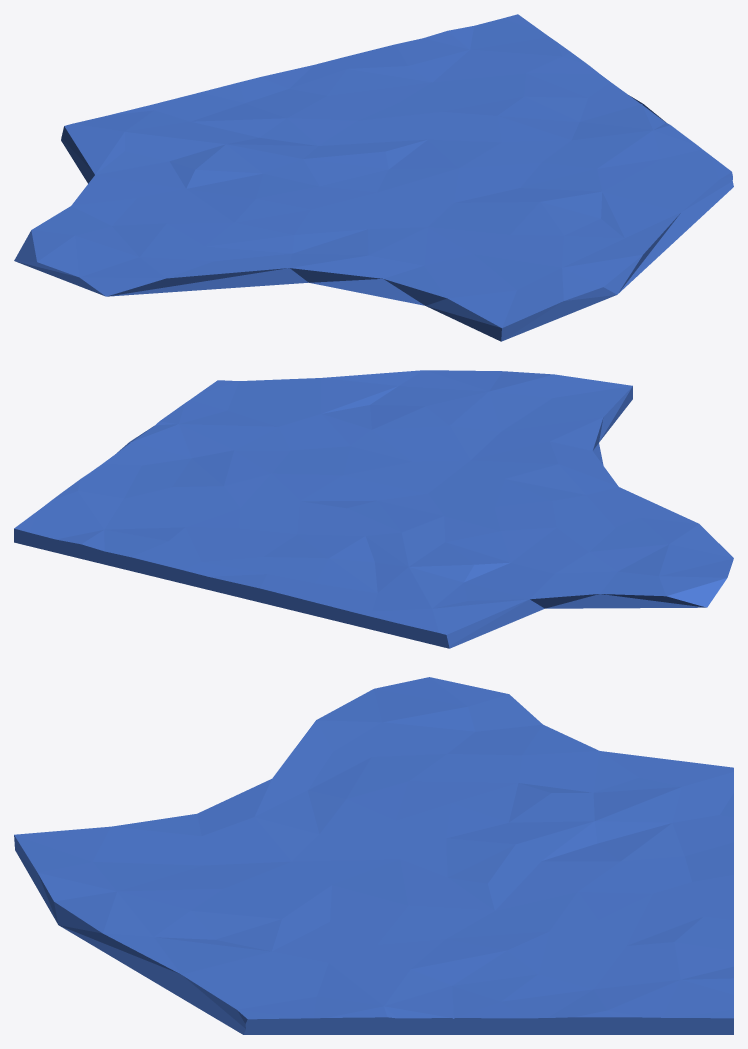
File: level_5_flood_stage2_model.fbx
The picture shows the model from 3 angles, top to bottom: view 1: azimuth 30°, elevation 25°; view 2: azimuth 150°, elevation 25°; view 3: azimuth 270°, elevation 25°; orthographic projection. The views are drawn at different scales.
Visible parts, largest first — view 1: BezierCurve.001; view 2: BezierCurve.001; view 3: BezierCurve.001.
Boxes of the visible parts, box(x1,y1,x2,y2) form: BezierCurve.001: box(14, 14, 733, 341); BezierCurve.001: box(14, 370, 733, 648); BezierCurve.001: box(14, 677, 733, 1034).
Size of the model in its own units: 290 by 7.27 by 257.
